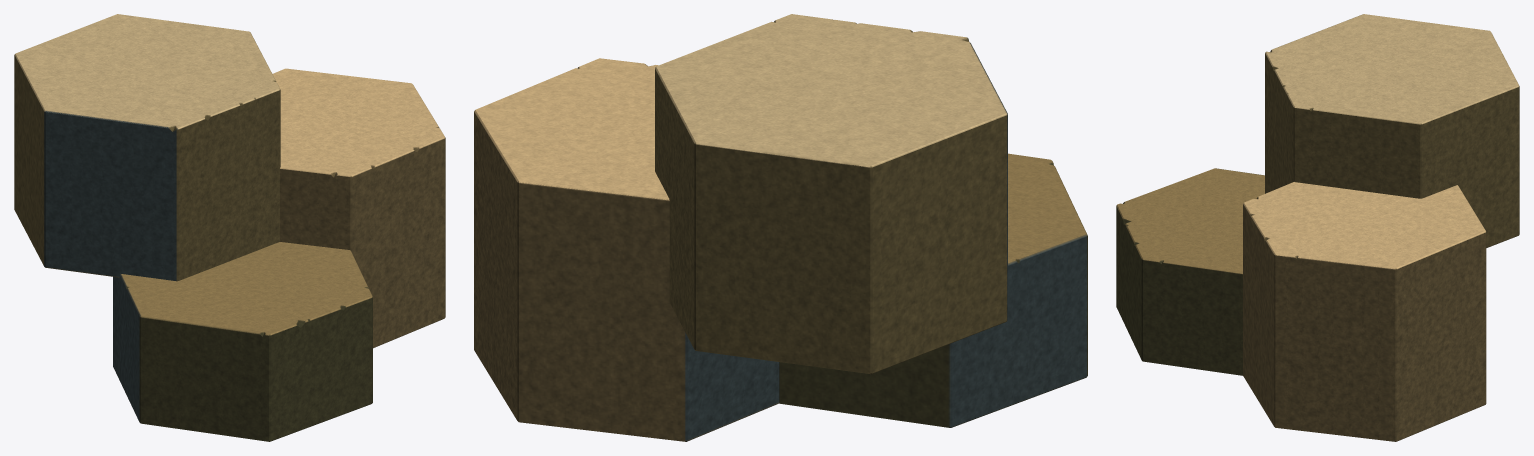
The model's file is OrirockConcentration_EdgeChips.fbx.
3 renders of one model, left to right at view 1: azimuth 30°, elevation 25°; view 2: azimuth 150°, elevation 25°; view 3: azimuth 270°, elevation 25°, orthographic. The views are drawn at different scales.
Parts seen in each view (by area): view 1: 提纯源岩_左后_宽顶短壁, 提纯源岩_前方_宽扁断块, 提纯源岩_右后_斜切与下阶; view 2: 提纯源岩_左后_宽顶短壁, 提纯源岩_右后_斜切与下阶, 提纯源岩_前方_宽扁断块; view 3: 提纯源岩_右后_斜切与下阶, 提纯源岩_左后_宽顶短壁, 提纯源岩_前方_宽扁断块.
Part boxes in pixels (x1,y1,x2,y2): 提纯源岩_左后_宽顶短壁: (14,14,280,281); 提纯源岩_前方_宽扁断块: (113,242,372,441); 提纯源岩_右后_斜切与下阶: (272,68,445,348); 提纯源岩_左后_宽顶短壁: (655,14,1007,374); 提纯源岩_右后_斜切与下阶: (474,58,779,441); 提纯源岩_前方_宽扁断块: (779,153,1087,427); 提纯源岩_右后_斜切与下阶: (1243,182,1486,441); 提纯源岩_左后_宽顶短壁: (1265,14,1519,247); 提纯源岩_前方_宽扁断块: (1116,168,1295,375).
Size of the model in its own units: 165 by 106 by 156.
